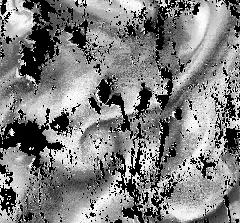CE: (78, 117, 126, 168)
